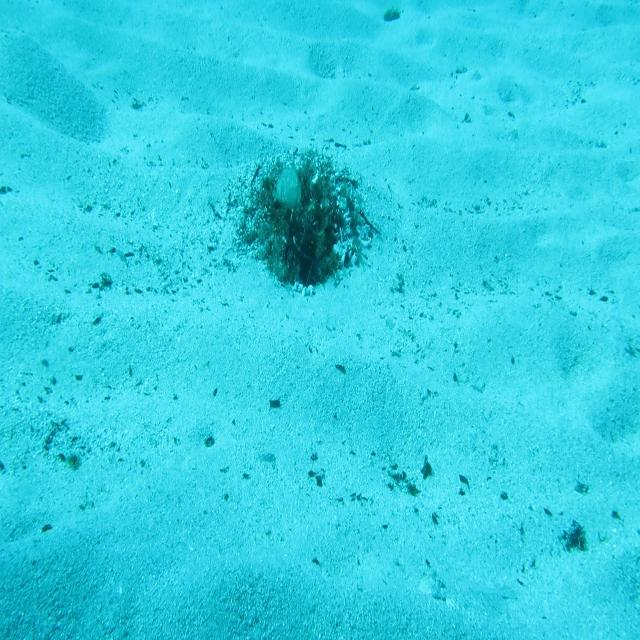NIP_IN: (272, 163, 302, 219)
core_nest: (292, 196, 327, 224)
nest: (239, 158, 374, 304)
